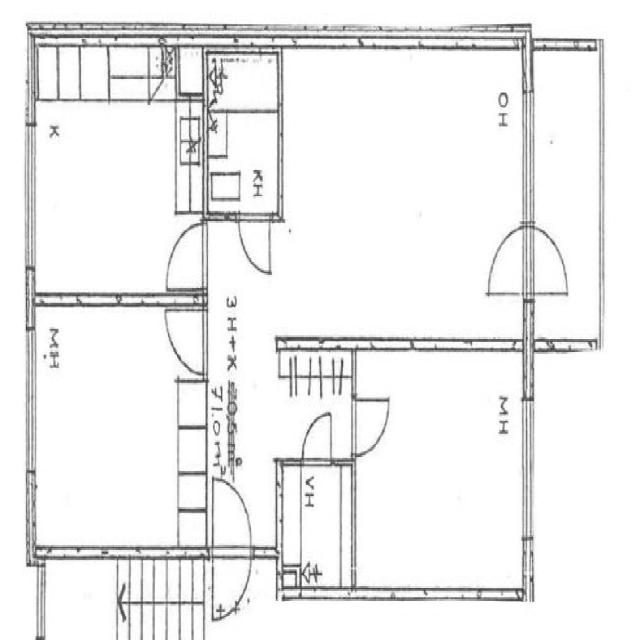door: (278, 435, 352, 600), (204, 472, 253, 628), (288, 368, 348, 474), (478, 217, 531, 305), (526, 218, 574, 308), (161, 296, 210, 384), (161, 217, 208, 294), (348, 388, 394, 458), (294, 405, 338, 470), (236, 211, 275, 279)
window: (514, 65, 544, 229), (515, 388, 539, 560), (406, 324, 514, 362), (20, 115, 42, 284), (39, 536, 111, 564)
zone: (274, 46, 529, 344), (352, 345, 531, 601), (30, 301, 210, 555), (30, 44, 198, 302), (205, 46, 281, 219), (277, 460, 355, 596), (278, 332, 357, 464)
